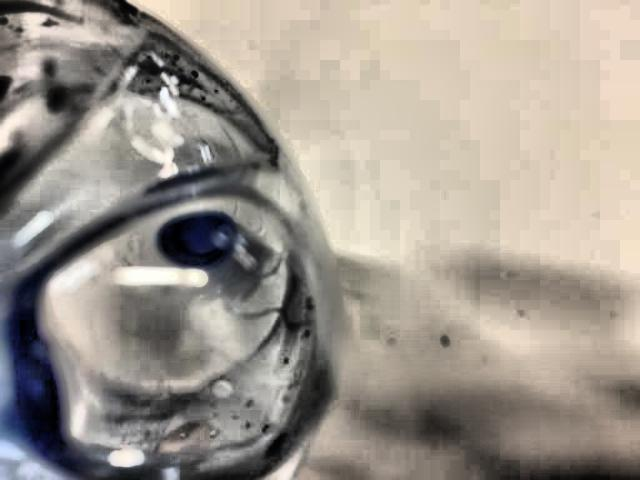Bottles: (0, 0, 370, 480)
